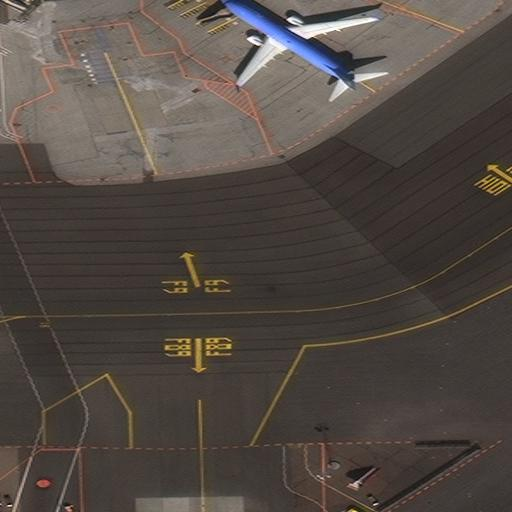Medium Civil Transport: (219, 0, 371, 93)
